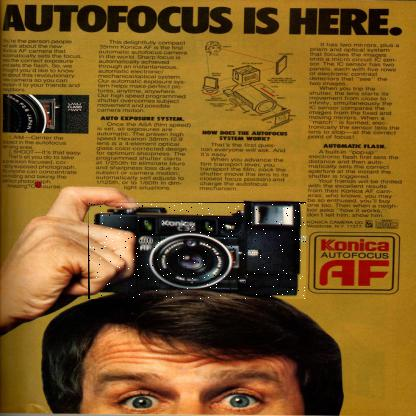Camera: (89, 203, 308, 301)
